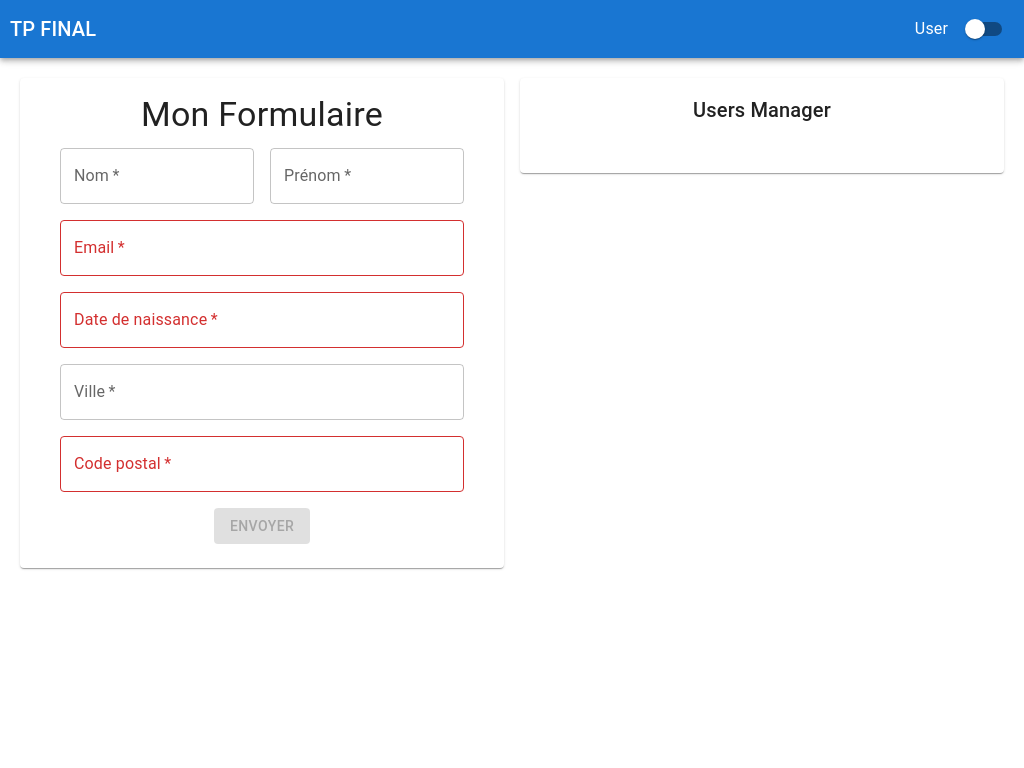
Test case: App › devrait changer le statut de l'utilisateur en admin
This screenshot has width=1024, height=768.
Click the element with test id "admin-switch" at (975, 29), box [965, 19, 985, 39]
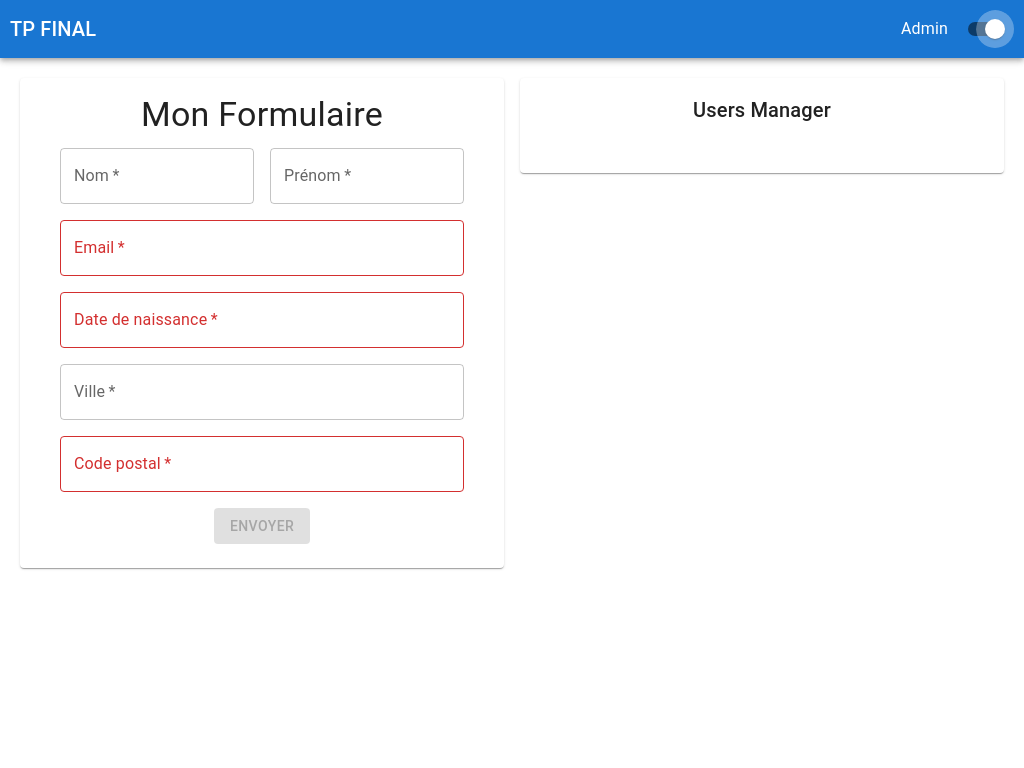
Expected: the heading "Admin" is shown, [901, 15, 948, 43]
